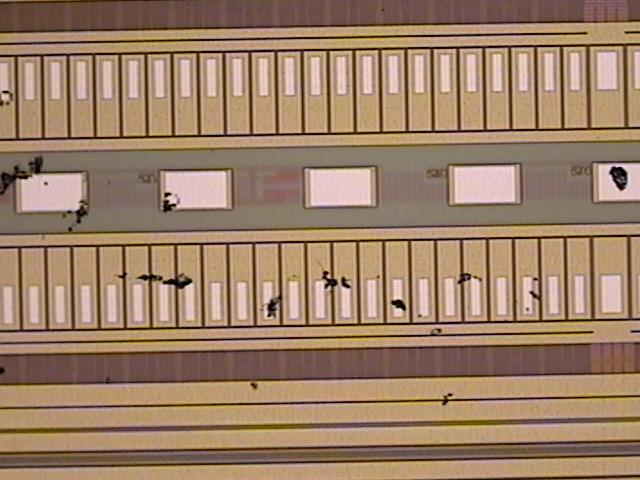PO CONTAMINATION: (1, 88, 633, 410)
